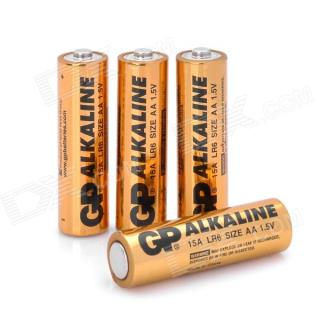Battery: (104, 196, 295, 290), (55, 47, 112, 238), (174, 46, 230, 213), (115, 47, 167, 222)
